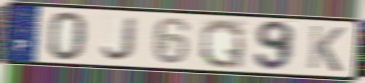0: (45, 10, 89, 62)
6: (152, 16, 191, 66)
9: (254, 19, 298, 74)
J: (100, 16, 141, 62)
K: (306, 23, 347, 74)
Q: (198, 17, 246, 70)
